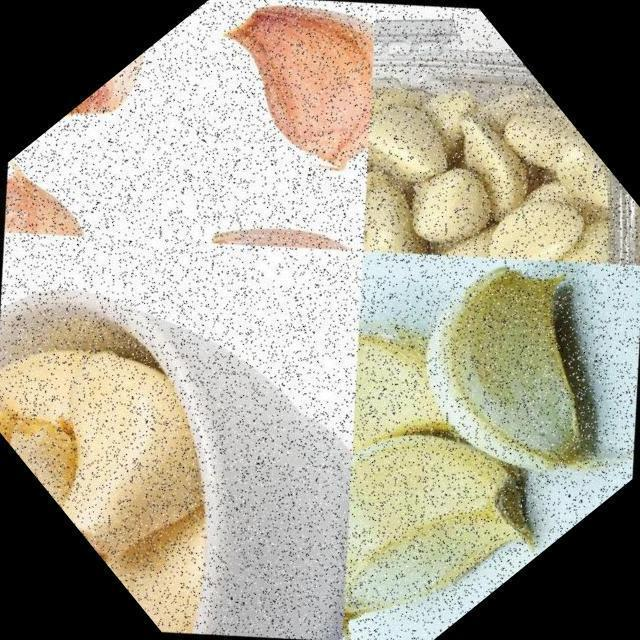garlic: (0, 237, 357, 640), (287, 4, 640, 375), (308, 175, 640, 568), (251, 339, 601, 640), (268, 269, 564, 565), (129, 0, 454, 249), (32, 23, 214, 186)
